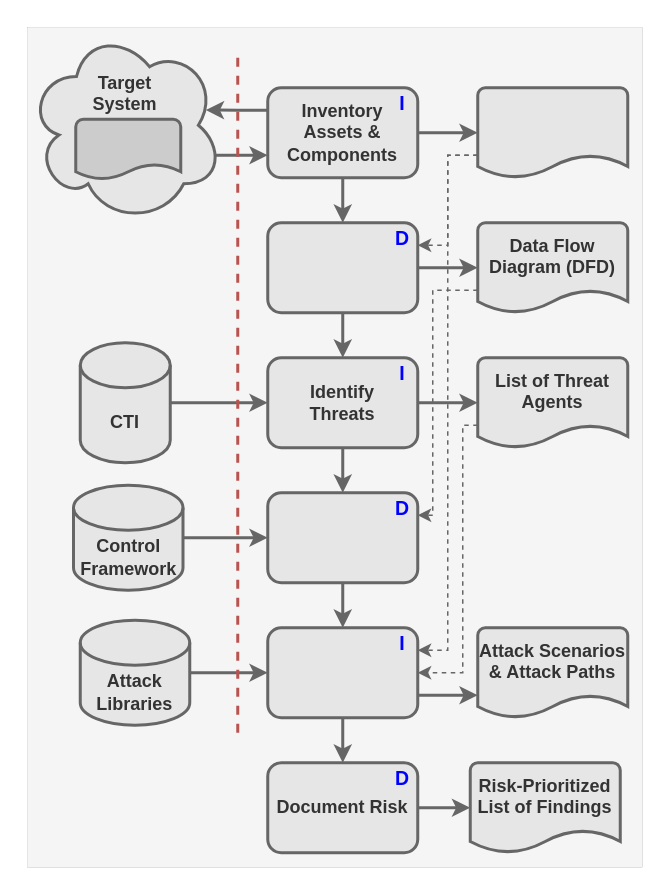
This 668x893 diagram has some shape labels left out. Each missing label, with the box of its shape:
Decompose Application: (266, 490, 418, 584)
Diagram Architecture: (266, 220, 418, 314)
Diagrams: (74, 117, 182, 180)
Illustrate Threats: (266, 626, 418, 718)
List of Technologies & Components: (476, 86, 628, 178)
